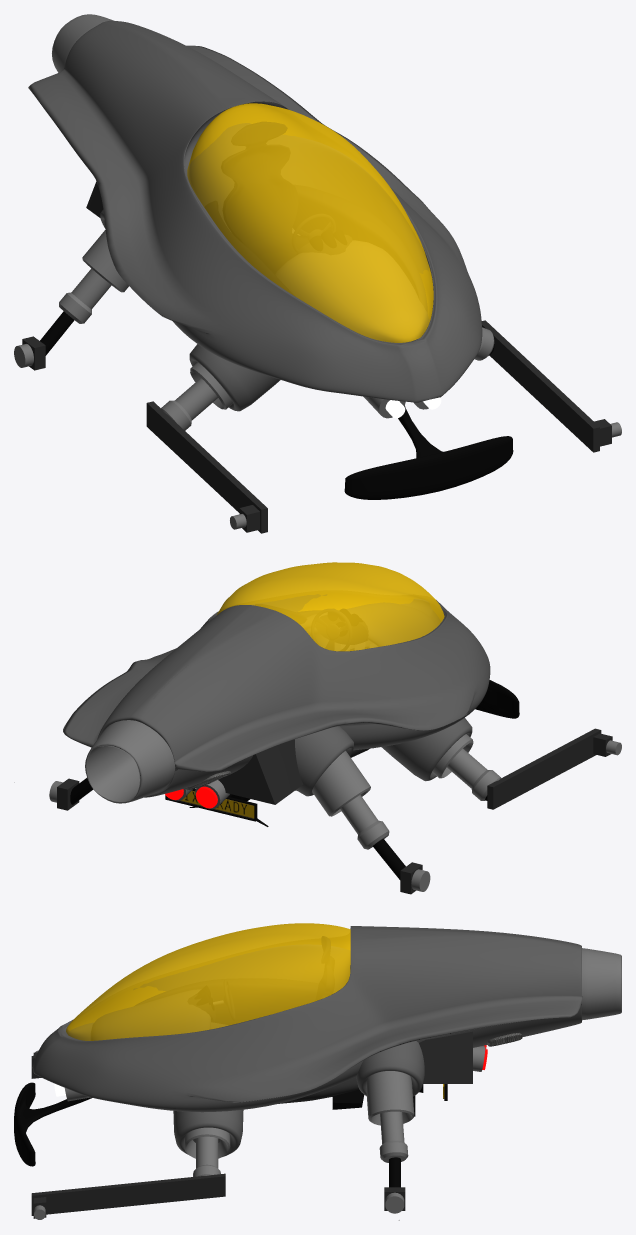
Rendered from space_discoverer-CnSQ9b_n.glb.
3 views of the same model, one above another, from view 1: azimuth 30°, elevation 25°; view 2: azimuth 150°, elevation 25°; view 3: azimuth 270°, elevation 25° (orthographic). The views are drawn at different scales.
Parts seen in each view (by area): view 1: pCube1, pCube9, pCube7, pCube4, pCube14, pCube11, pCube8, pCylinder11, pCylinder10, pCylinder9, pCube2; view 2: pCube1, pCube9, pCube2, pCylinder11, pCube14, pCube16, pCube7, pCylinder8, pCylinder9, pCylinder10, pCube11, pCube15 (+7 smaller); view 3: pCube1, pCube9, pCube14, pCube8, pCube7, pCylinder11, pCube2, pCube16, pCylinder8, pCylinder9, pCube11, pCylinder10 (+3 smaller).
Part boxes in pixels (x1,y1,x2,y2): pCube1: (28,20,482,402); pCube9: (187,103,433,342); pCube7: (275,241,428,342); pCube4: (221,122,308,273); pCube14: (146,320,611,533); pCube11: (344,406,513,499); pCube8: (205,185,426,310); pCylinder11: (59,230,128,323); pCylinder10: (161,327,494,430); pCylinder9: (189,344,280,411); pCube2: (52,14,114,72); pCube1: (63,594,490,797); pCube9: (217,562,444,651); pCube2: (85,720,175,803); pCylinder11: (312,750,389,849); pCube14: (487,728,612,809); pCube16: (218,739,303,804); pCube7: (301,603,436,650); pCylinder8: (295,726,353,796); pCylinder9: (381,717,472,781); pCylinder10: (432,734,500,800); pCube11: (475,680,519,718); pCube15: (57,778,422,894); pCube1: (32,926,582,1112); pCube9: (66,923,350,1040); pCube14: (31,1052,225,1218); pCube8: (135,979,339,1024); pCube7: (91,990,210,1040); pCylinder11: (366,1071,414,1162); pCube2: (581,948,621,1020); pCube16: (419,1031,472,1083); pCylinder8: (356,1041,424,1096); pCylinder9: (173,1023,243,1156); pCube11: (14,1082,92,1166); pCylinder10: (184,1127,230,1176).
Bounding box in the file's own units: 3.98 × 2.2 × 5.71.
Materials: 16 (4 with a texture image).
